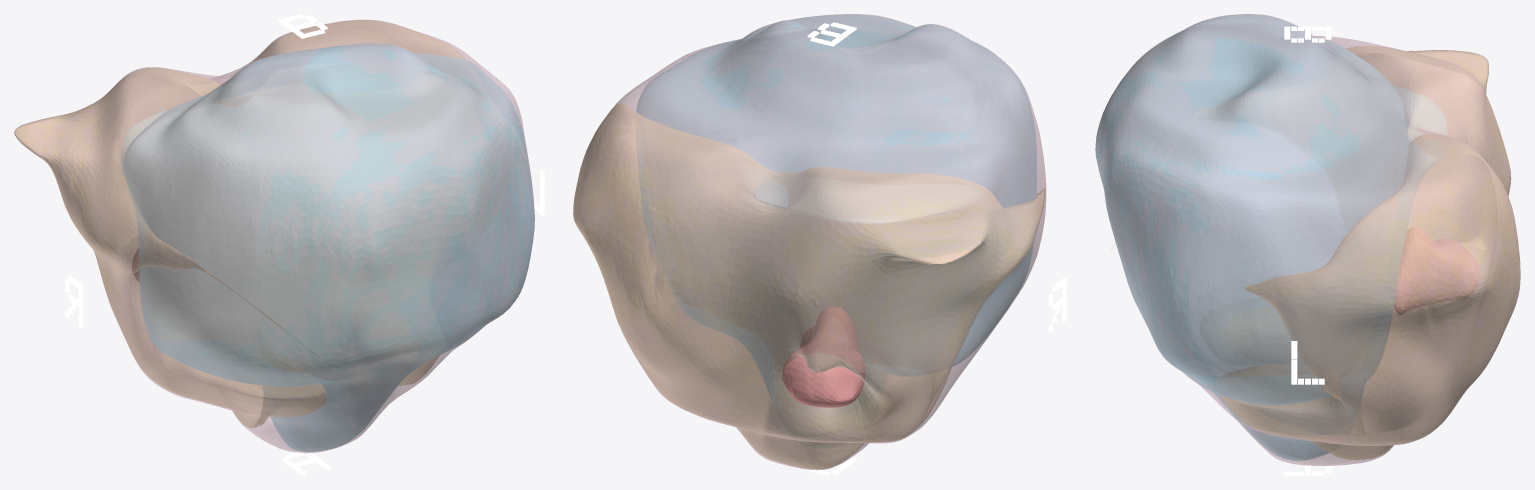
3 renders of one model, left to right at view 1: azimuth 30°, elevation 25°; view 2: azimuth 150°, elevation 25°; view 3: azimuth 270°, elevation 25°, orthographic.
Parts seen in each view (by area): view 1: prostate_gland, transition_zone, peripheral_zone, pv_ar_marker_B, pv_ar_marker_R; view 2: prostate_gland, peripheral_zone, transition_zone, lesion_01, pv_ar_marker_B, pv_ar_marker_R; view 3: prostate_gland, transition_zone, peripheral_zone, lesion_01, pv_ar_marker_B, pv_ar_marker_L, pv_ar_marker_A.
Boxes of the visible parts, x1,y1,x2,y2 form: prostate_gland: (14,19,534,453); transition_zone: (121,44,534,451); peripheral_zone: (14,20,465,427); pv_ar_marker_B: (278,14,327,38); pv_ar_marker_R: (65,275,83,328); prostate_gland: (573,14,1046,470); peripheral_zone: (573,103,1045,469); transition_zone: (636,14,1036,406); lesion_01: (782,306,865,407); pv_ar_marker_B: (807,22,856,46); pv_ar_marker_R: (1048,277,1066,331); prostate_gland: (1095,14,1520,465); transition_zone: (1095,14,1447,460); peripheral_zone: (1110,46,1520,459); lesion_01: (1394,227,1478,314); pv_ar_marker_B: (1284,26,1331,42); pv_ar_marker_L: (1291,341,1324,384); pv_ar_marker_A: (1284,460,1331,475).
Bounding box in the file's own units: 0.0513 × 0.0465 × 0.0412.
